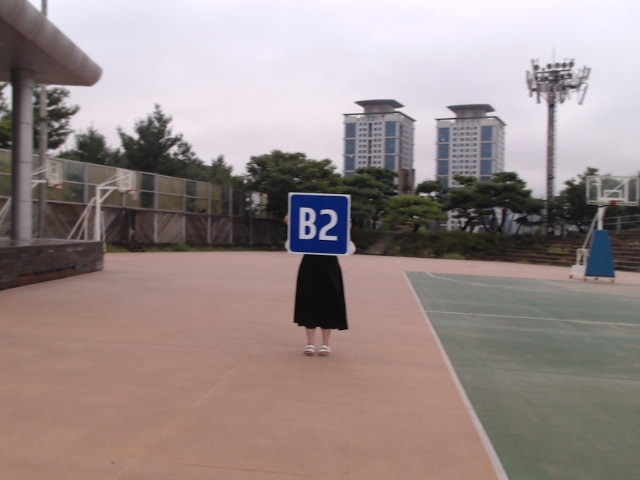delivery_b2: (289, 193, 350, 255)
